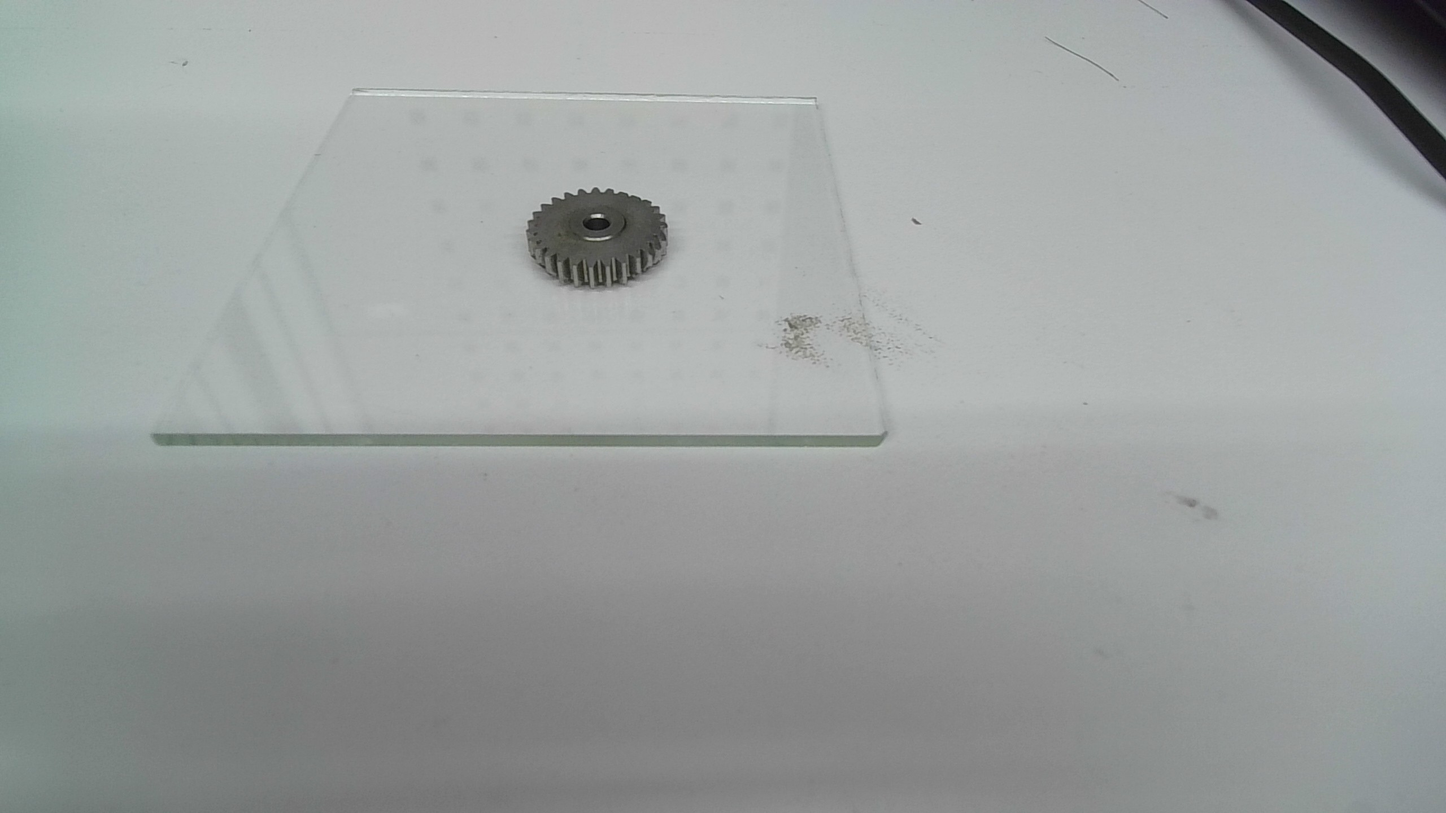gear: (524, 185, 671, 292)
